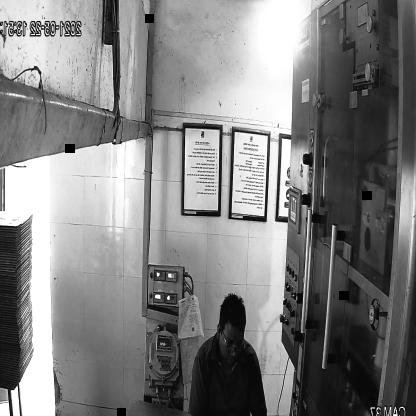goggles: (220, 332, 246, 359)
